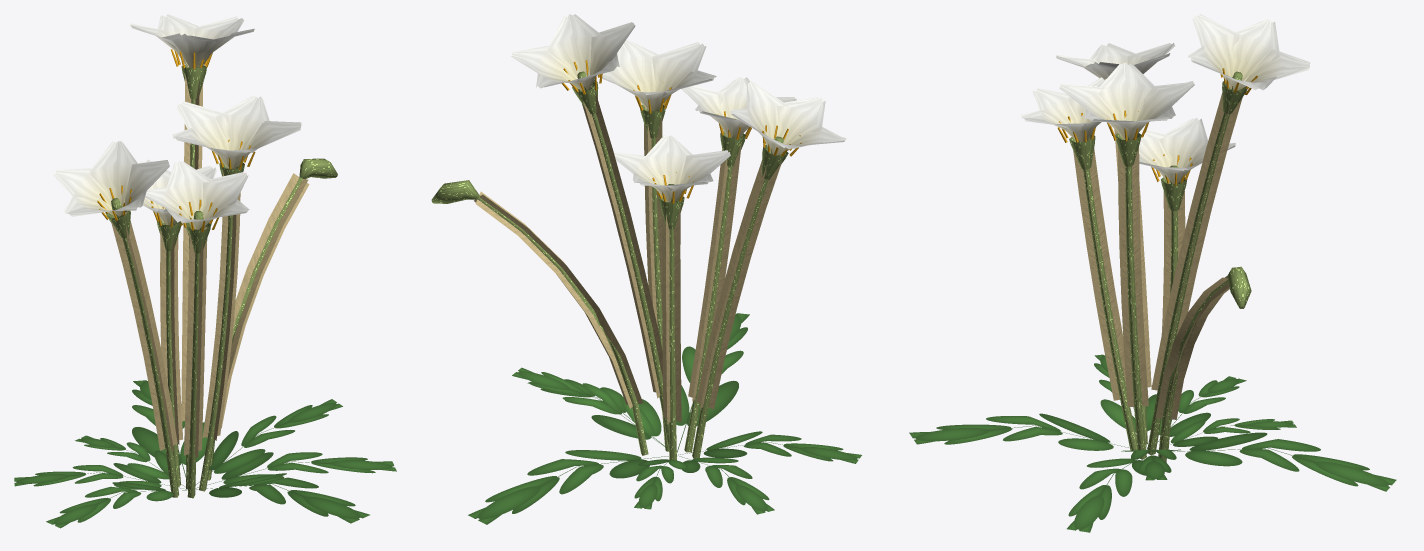
The model's file is arctic_poppy_v02_LOD1.fbx.
3 views of the same model, side by side, from view 1: azimuth 30°, elevation 25°; view 2: azimuth 150°, elevation 25°; view 3: azimuth 270°, elevation 25° (orthographic). The views are drawn at different scales.
Parts seen in each view (by area): view 1: arctic_poppy_v02_LOD1; view 2: arctic_poppy_v02_LOD1; view 3: arctic_poppy_v02_LOD1.
Part boxes in pixels (box(x1,y1,x2,y2)): arctic_poppy_v02_LOD1: box(14, 14, 396, 528); arctic_poppy_v02_LOD1: box(431, 14, 861, 524); arctic_poppy_v02_LOD1: box(909, 14, 1396, 532).
Size of the model in its own units: 19.19 by 23.08 by 22.31.
Materials: 5 (5 with a texture image).
